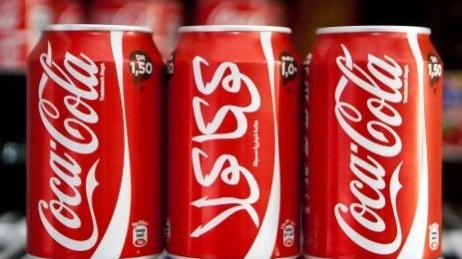can: (14, 18, 168, 259), (163, 12, 307, 258), (304, 22, 447, 258)
